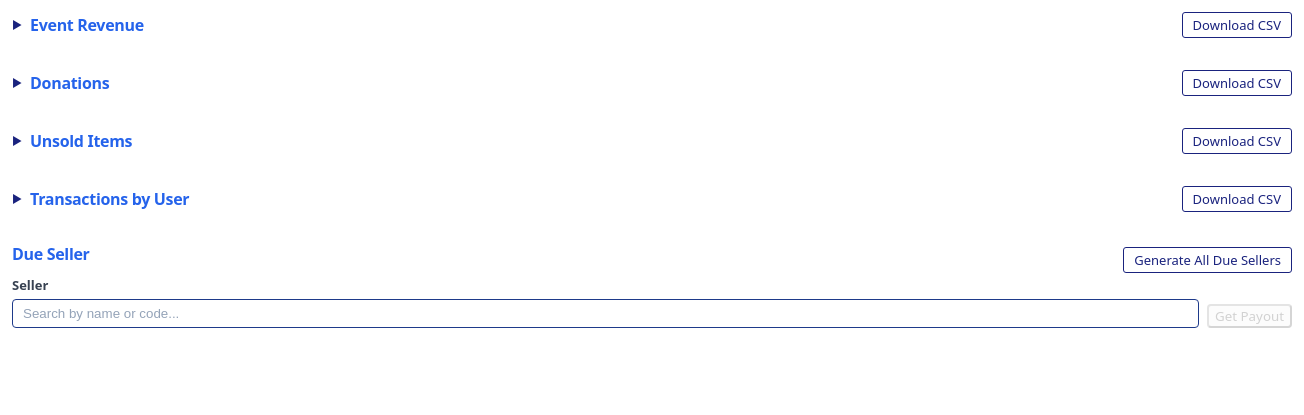
it: ReportsPage › shows unsold items table
The width and height of the screenshot is (1304, 415).
Click the heading "Unsold Items" at (81, 141), box [30,131,132,151]
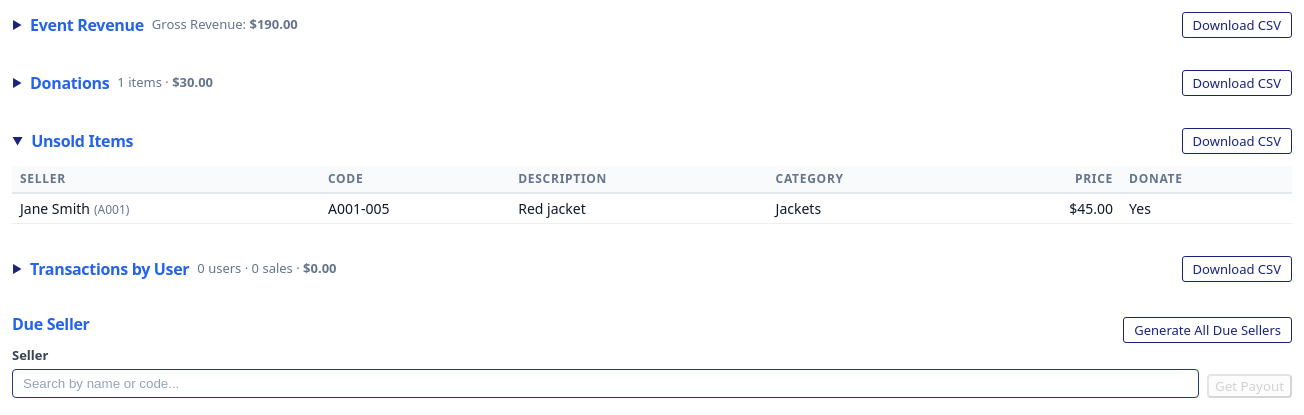
Result: the text "A001-005" is shown at [320,193,510,224]
Result: the text "Red jacket" is shown at [510,193,768,224]
